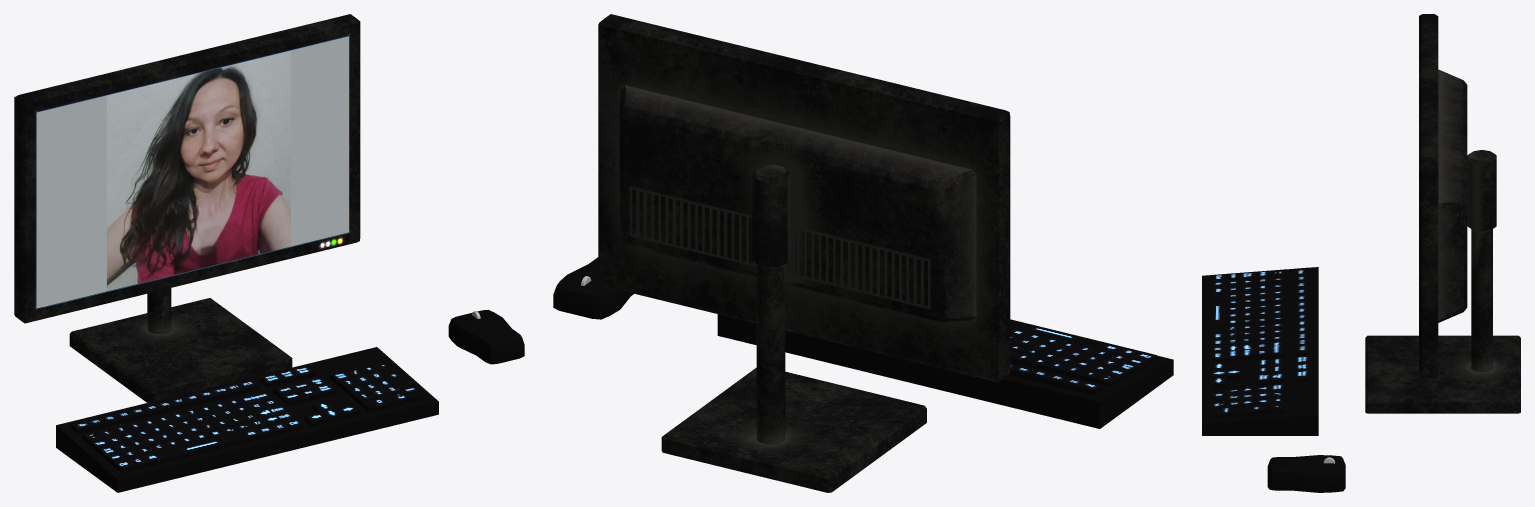
3 renders of one model, left to right at view 1: azimuth 30°, elevation 25°; view 2: azimuth 150°, elevation 25°; view 3: azimuth 270°, elevation 25°, orthographic. The views are drawn at different scales.
Visible parts, largest first — view 1: Computer_Low, Key_Board_Low, Base_Low, Mouse_Low, Vert_Low; view 2: Computer_Low, Base_Low, Key_Board_Low, Vert_Low, Mouse_Low; view 3: Key_Board_Low, Computer_Low, Base_Low, Vert_Low, Mouse_Low.
Part boxes in pixels (x1,y1,x2,y2): Computer_Low: (14,14,360,323); Key_Board_Low: (56,347,438,492); Base_Low: (69,298,292,402); Mouse_Low: (448,310,524,364); Vert_Low: (147,288,171,333); Computer_Low: (598,14,1010,382); Base_Low: (661,367,926,492); Key_Board_Low: (717,314,1173,428); Vert_Low: (751,164,789,444); Mouse_Low: (553,257,633,319); Key_Board_Low: (1202,267,1318,435); Computer_Low: (1419,14,1467,378); Base_Low: (1365,335,1520,413); Vert_Low: (1467,150,1496,371); Mouse_Low: (1267,455,1345,492).
Size of the model in its own units: 1 by 0.6542 by 0.6521.
1 material, 1 textured.
